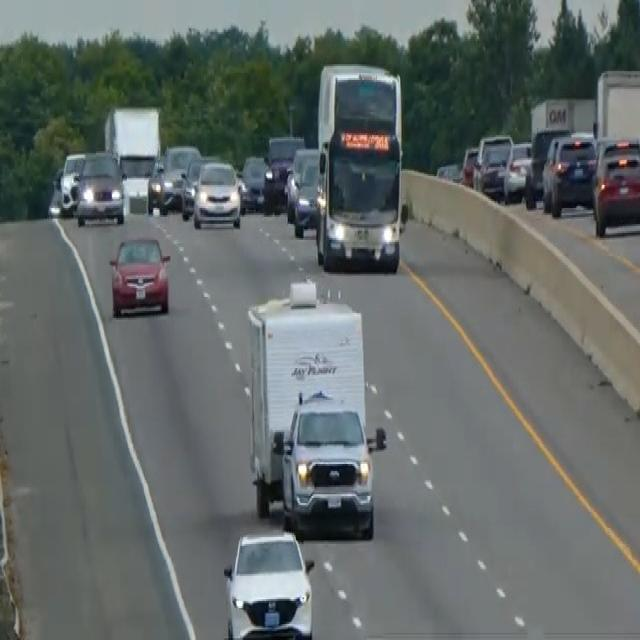bus: (313, 59, 408, 274)
car: (221, 528, 316, 638), (108, 233, 171, 316), (541, 130, 597, 217), (592, 140, 639, 237), (75, 147, 126, 225), (524, 125, 570, 206), (192, 156, 241, 230), (264, 133, 305, 208), (159, 142, 200, 212), (472, 132, 512, 198), (293, 150, 319, 236), (502, 138, 532, 202), (58, 149, 86, 215), (239, 153, 269, 211), (179, 156, 202, 218), (145, 155, 164, 213), (47, 165, 64, 217), (460, 144, 479, 187)
truck: (243, 274, 387, 537)
